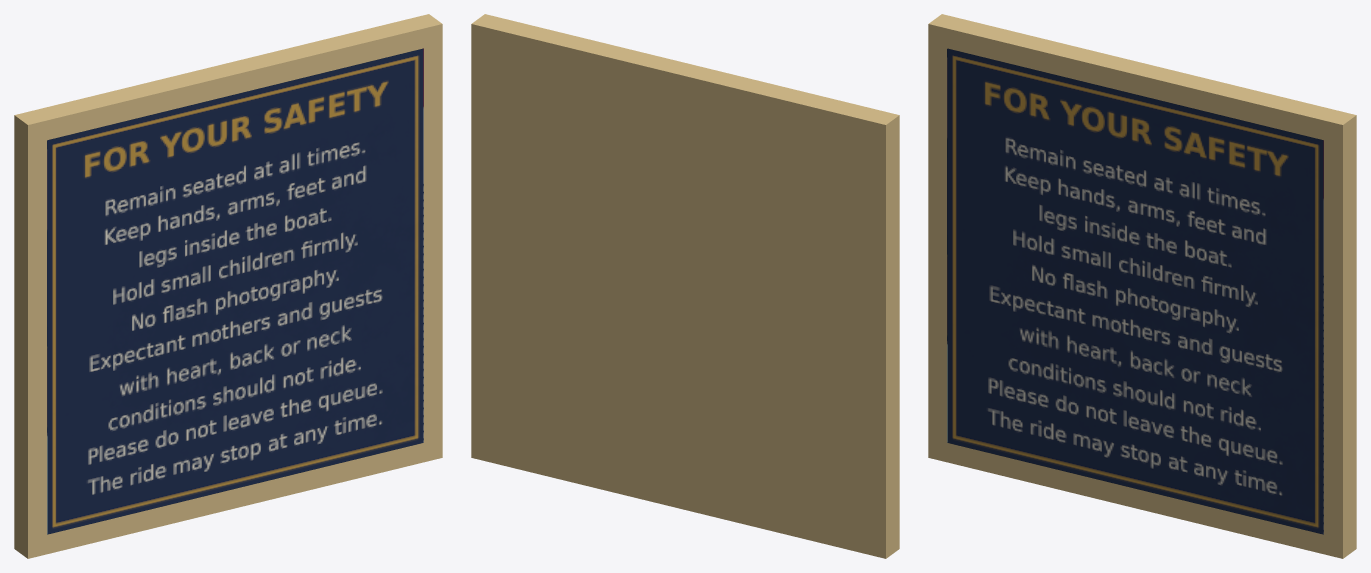
The model's file is SM_QUE_Board_RideRules.fbx.
3 renders of one model, left to right at view 1: azimuth 30°, elevation 25°; view 2: azimuth 150°, elevation 25°; view 3: azimuth 330°, elevation 25°, orthographic.
Parts seen in each view (by area): view 1: SM_QUE_Board_RideRules; view 2: SM_QUE_Board_RideRules; view 3: SM_QUE_Board_RideRules.
Boxes of the visible parts, x1,y1,x2,y2 form: SM_QUE_Board_RideRules: (14,14,442,558); SM_QUE_Board_RideRules: (471,14,899,558); SM_QUE_Board_RideRules: (928,14,1356,558).
Bounding box in the file's own units: 0.88 × 0.88 × 0.0505.
